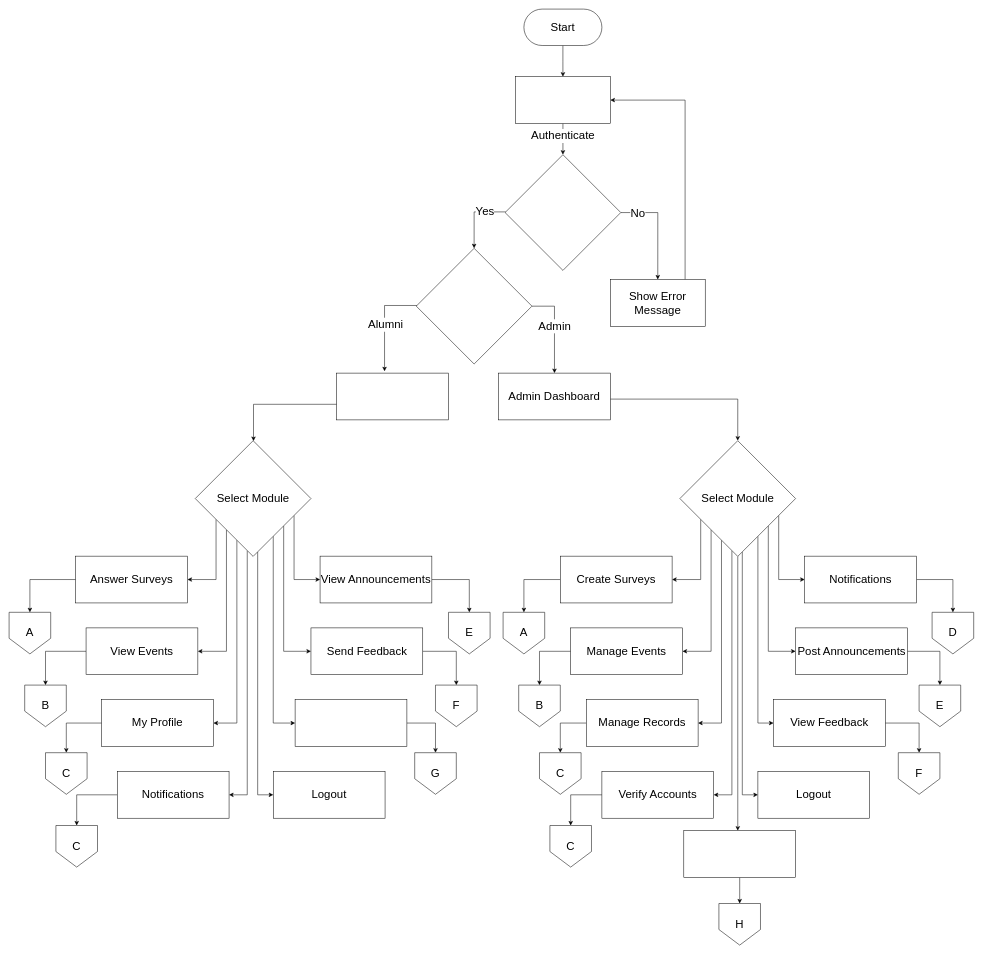
This 983x954 diagram has some shape labels left out. Each missing label, with the centre of its shape:
"Alumni Dashboard" belongs at point 392,396.
"Check User Role" belongs at point 474,306.
"Login Page" belongs at point 562,100.
"Valid Credentials?" belongs at point 563,212.
"View Analytics" belongs at point 739,854.
"View Career" belongs at point 351,722.
